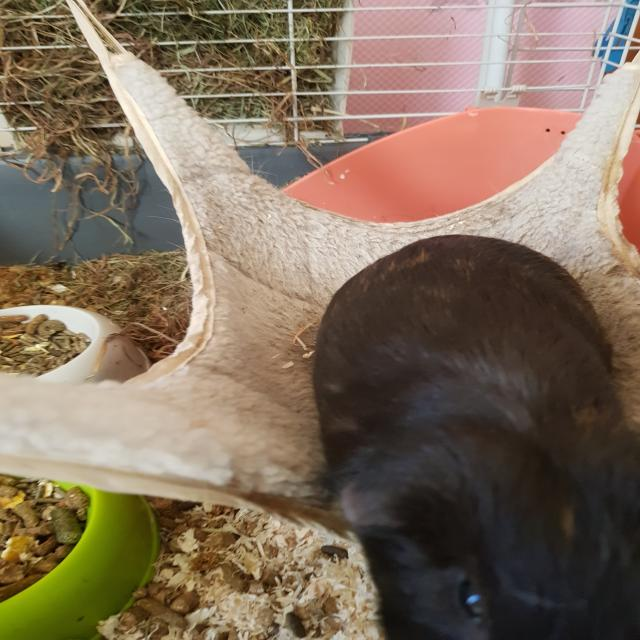guinea pig: (306, 232, 640, 640)
